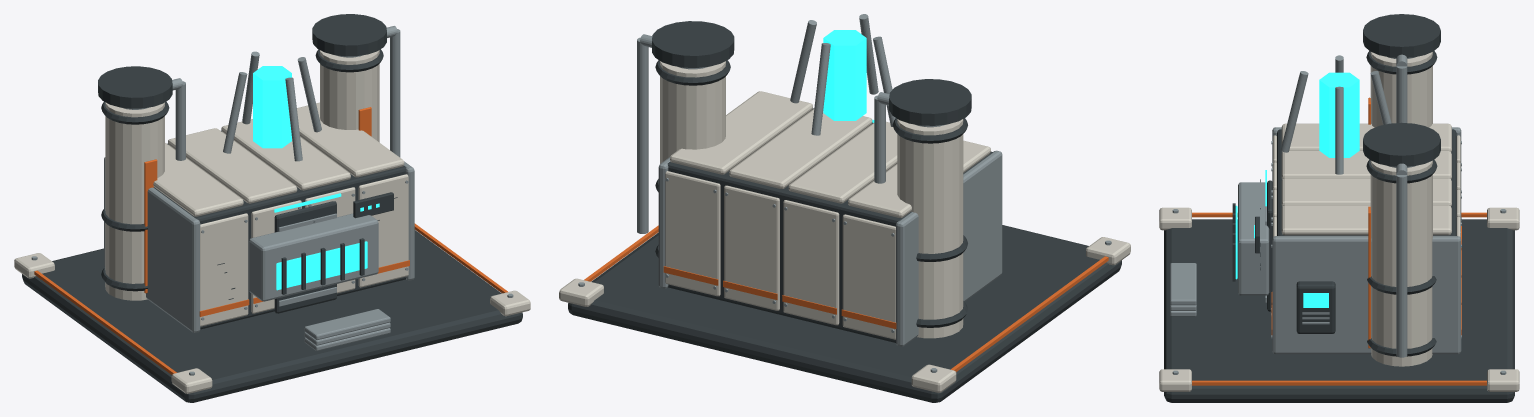
The model's file is SM_AlienMaterialProcessor_Body.002.fbx.
The picture shows the model from 3 angles, left to right: view 1: azimuth 30°, elevation 25°; view 2: azimuth 150°, elevation 25°; view 3: azimuth 270°, elevation 25°; orthographic projection. The views are drawn at different scales.
Parts seen in each view (by area): view 1: SM_AlienMaterialProcessor_Body.002; view 2: SM_AlienMaterialProcessor_Body.002; view 3: SM_AlienMaterialProcessor_Body.002.
Boxes of the visible parts, left/top/right/bottom form: SM_AlienMaterialProcessor_Body.002: left=14, top=14, right=530, bottom=402; SM_AlienMaterialProcessor_Body.002: left=559, top=14, right=1130, bottom=402; SM_AlienMaterialProcessor_Body.002: left=1159, top=14, right=1519, bottom=402.
Bounding box in the file's own units: 532 × 462 × 351.
